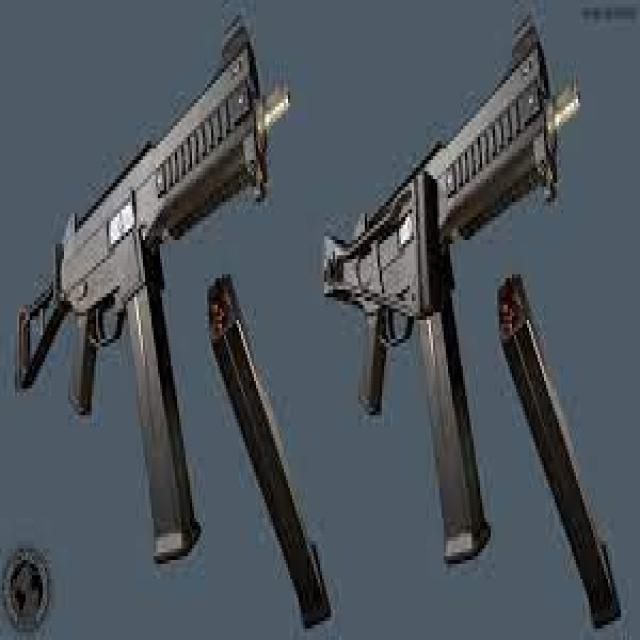Gun: (313, 3, 628, 571), (5, 0, 298, 576)
